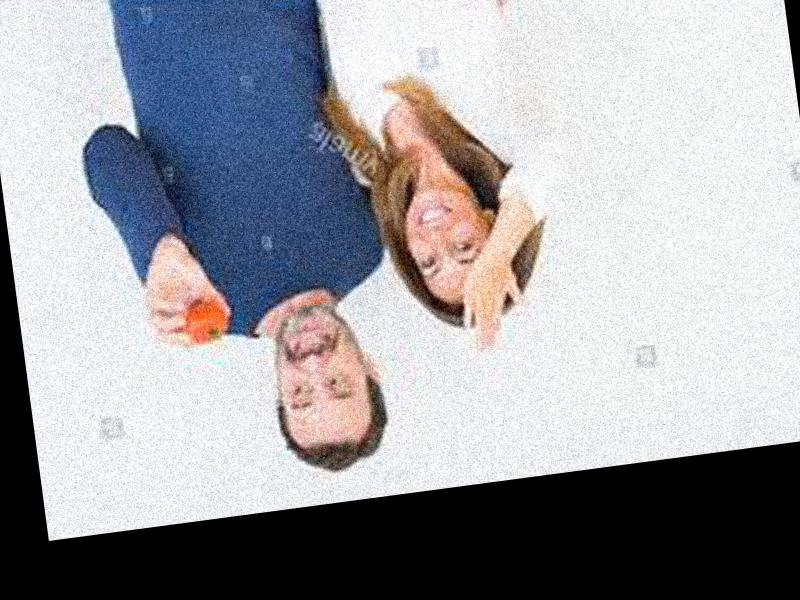Tomato: (184, 300, 229, 349)
